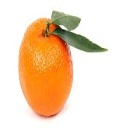orange: (17, 12, 74, 120)
